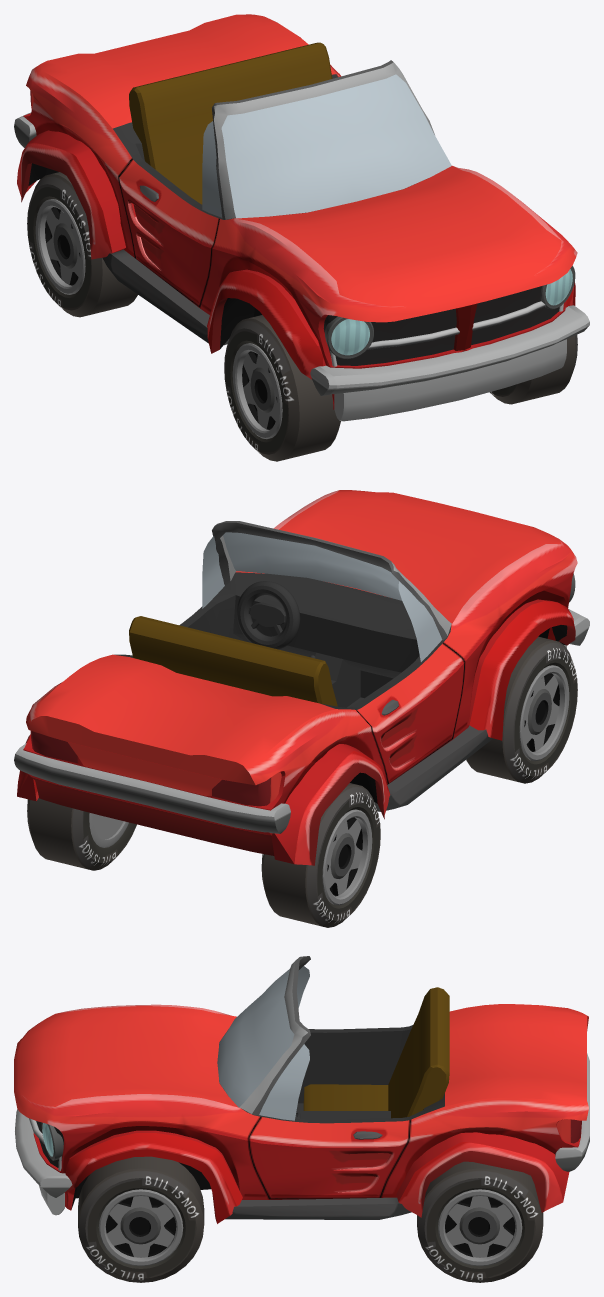
Rendered from HCR2 Sports car.fbx.
3 views of the same model, one above another, from view 1: azimuth 30°, elevation 25°; view 2: azimuth 150°, elevation 25°; view 3: azimuth 270°, elevation 25° (orthographic). The views are drawn at different scales.
Parts seen in each view (by area): view 1: HCR2_SP_Body, HCR2_SP_Windows, HCR2_SP_Front_Bumper, HCR2_SP_Seat, HCR2_SP_Fenders, HCR2_SP_FR_Wheel, HCR2_SP_RR_Wheel, HCR2_SP_Grl, HCR2_SP_Window_Frame, HCR2_SP_Side_Skirts, HCR2_SP_FLights, HCR2_SP_FL_Wheel (+2 smaller); view 2: HCR2_SP_Body, HCR2_SP_Interior, HCR2_SP_Fenders, HCR2_SP_RR_Wheel, HCR2_SP_FR_Wheel, HCR2_SP_Seat, HCR2_SP_Windows, HCR2_SP_Rear_Bumper, HCR2_SP_RL_Wheel, HCR2_SP_Window_Frame, HCR2_SP_Steer, HCR2_SP_Side_Skirts (+1 smaller); view 3: HCR2_SP_Body, HCR2_SP_FL_Wheel, HCR2_SP_RL_Wheel, HCR2_SP_Fenders, HCR2_SP_Windows, HCR2_SP_Seat, HCR2_SP_Interior, HCR2_SP_Side_Skirts, HCR2_SP_Front_Bumper, HCR2_SP_Window_Frame, HCR2_SP_Rear_Bumper, HCR2_SP_FLights (+3 smaller).
Boxes of the visible parts, left/top/right/bottom form: HCR2_SP_Body: left=23, top=14, right=577, bottom=409; HCR2_SP_Windows: left=202, top=74, right=451, bottom=218; HCR2_SP_Front_Bumper: left=310, top=305, right=589, bottom=421; HCR2_SP_Seat: left=129, top=42, right=332, bottom=204; HCR2_SP_Fenders: left=17, top=130, right=575, bottom=379; HCR2_SP_FR_Wheel: left=224, top=315, right=340, bottom=461; HCR2_SP_RR_Wheel: left=27, top=172, right=137, bottom=317; HCR2_SP_Grl: left=323, top=286, right=559, bottom=365; HCR2_SP_Window_Frame: left=212, top=60, right=434, bottom=219; HCR2_SP_Side_Skirts: left=102, top=249, right=229, bottom=345; HCR2_SP_FLights: left=325, top=265, right=575, bottom=359; HCR2_SP_FL_Wheel: left=489, top=335, right=577, bottom=404; HCR2_SP_Body: left=23, top=490, right=577, bottom=855; HCR2_SP_Interior: left=114, top=572, right=451, bottom=709; HCR2_SP_Fenders: left=17, top=599, right=575, bottom=865; HCR2_SP_RR_Wheel: left=261, top=783, right=380, bottom=927; HCR2_SP_FR_Wheel: left=466, top=636, right=577, bottom=783; HCR2_SP_Seat: left=129, top=616, right=337, bottom=706; HCR2_SP_Windows: left=202, top=532, right=442, bottom=661; HCR2_SP_Rear_Bumper: left=14, top=743, right=290, bottom=833; HCR2_SP_RL_Wheel: left=27, top=798, right=136, bottom=870; HCR2_SP_Window_Frame: left=212, top=521, right=451, bottom=640; HCR2_SP_Steer: left=236, top=581, right=300, bottom=649; HCR2_SP_Side_Skirts: left=374, top=725, right=492, bottom=811; HCR2_SP_Body: left=14, top=1004, right=588, bottom=1210; HCR2_SP_FL_Wheel: left=78, top=1156, right=204, bottom=1282; HCR2_SP_RL_Wheel: left=417, top=1161, right=543, bottom=1282; HCR2_SP_Fenders: left=65, top=1130, right=569, bottom=1223; HCR2_SP_Windows: left=217, top=966, right=309, bottom=1120; HCR2_SP_Seat: left=303, top=987, right=449, bottom=1118; HCR2_SP_Interior: left=219, top=1025, right=444, bottom=1123; HCR2_SP_Side_Skirts: left=225, top=1197, right=411, bottom=1219; HCR2_SP_Front_Bumper: left=15, top=1109, right=72, bottom=1215; HCR2_SP_Window_Frame: left=239, top=956, right=310, bottom=1115; HCR2_SP_Rear_Bumper: left=555, top=1053, right=589, bottom=1171; HCR2_SP_FLights: left=41, top=1122, right=63, bottom=1160.
Bounding box in the file's own units: 190 × 169 × 376.
3 materials, 2 textured.
